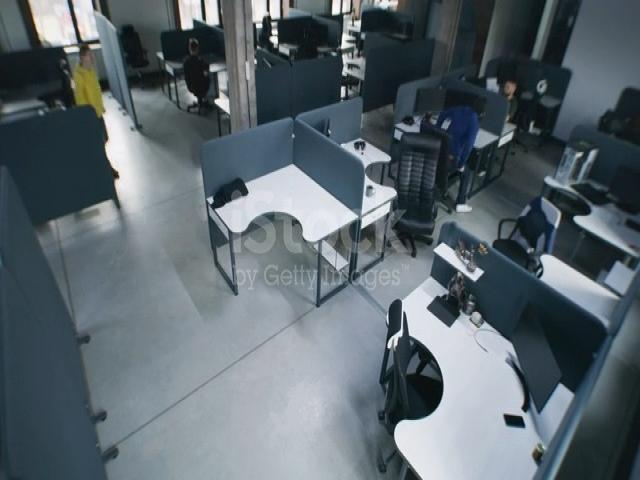empty chair: (369, 291, 453, 480), (493, 182, 566, 297), (392, 127, 444, 245), (113, 6, 155, 90), (50, 46, 80, 108), (337, 52, 362, 96)
occupiedchair: (437, 79, 491, 214), (492, 64, 535, 168), (168, 33, 218, 122), (587, 85, 640, 136)
